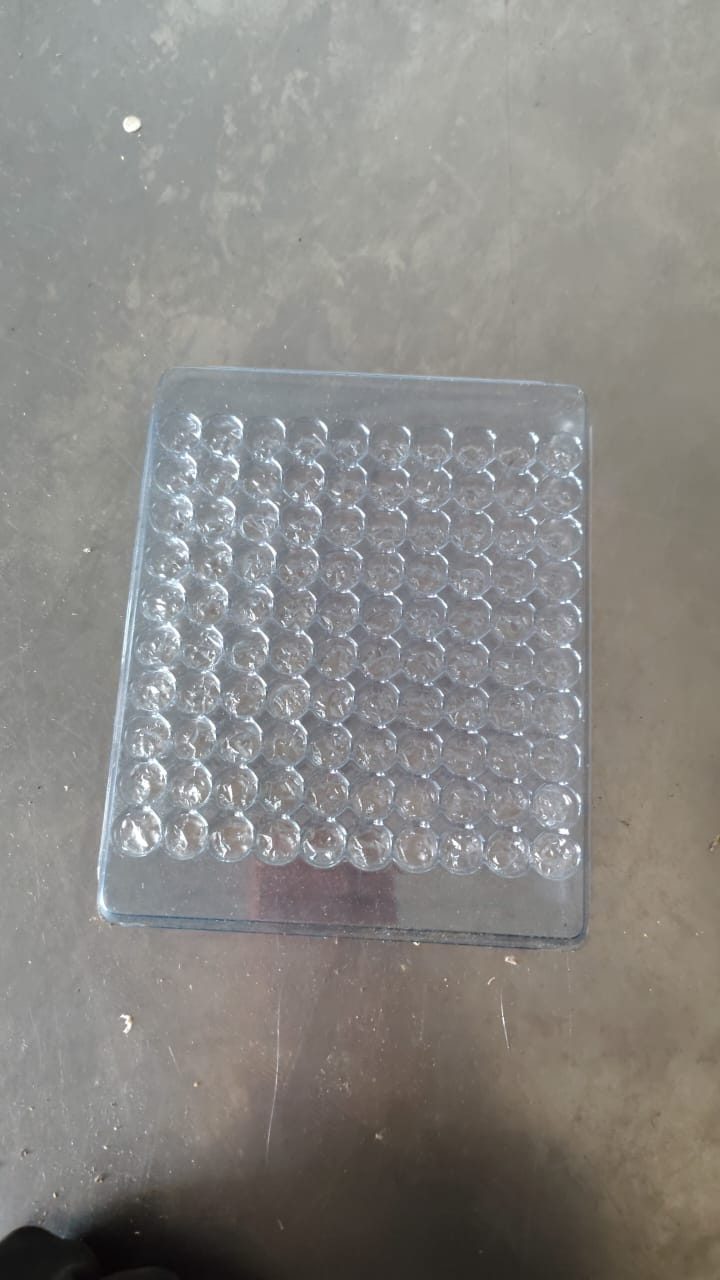Ordinario: (96, 364, 594, 948)
